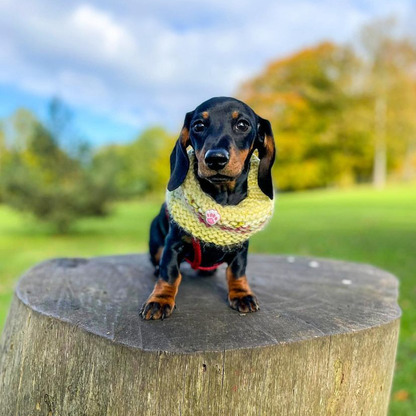dachshund: (129, 90, 302, 344)
